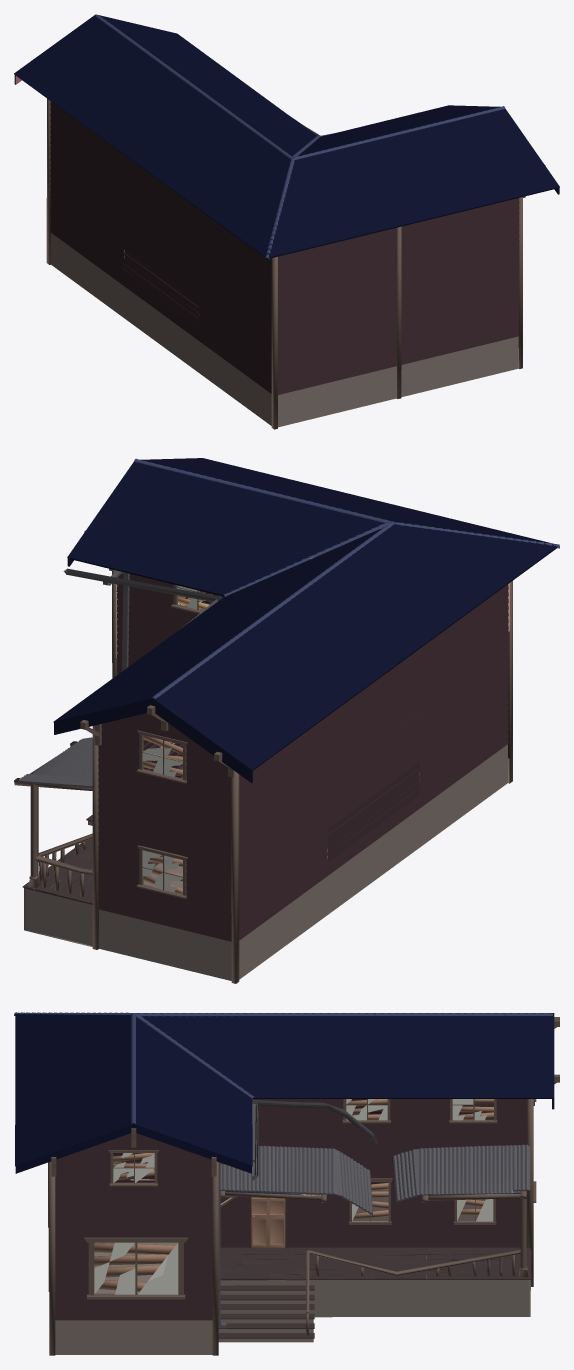
File: Abandoned_House.fbx
3 views of the same model, one above another, from view 1: azimuth 30°, elevation 25°; view 2: azimuth 150°, elevation 25°; view 3: azimuth 270°, elevation 25° (orthographic). The views are drawn at different scales.
Visible parts, largest first — view 1: Abandoned_House; view 2: Abandoned_House; view 3: Abandoned_House.
Boxes of the visible parts, <box> form: Abandoned_House: <box>14,14,559,429</box>; Abandoned_House: <box>14,458,559,983</box>; Abandoned_House: <box>14,1012,559,1355</box>.
Bounding box in the file's own units: 612 × 449 × 913.
